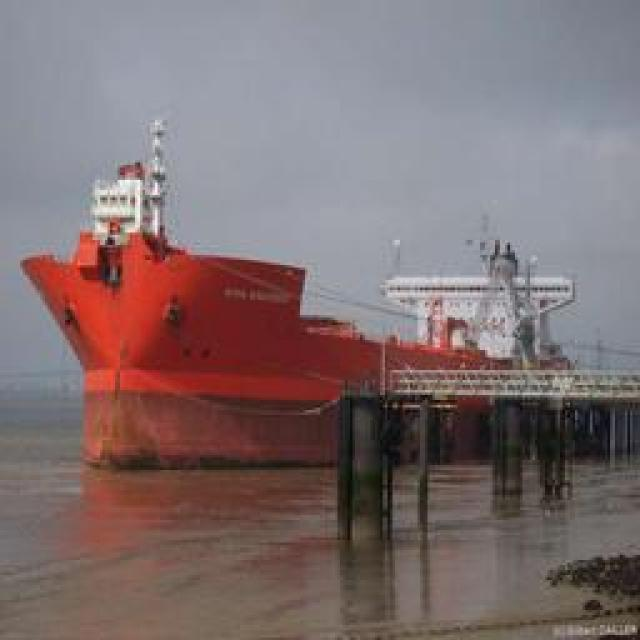CIV_Ship: (31, 105, 571, 458)
